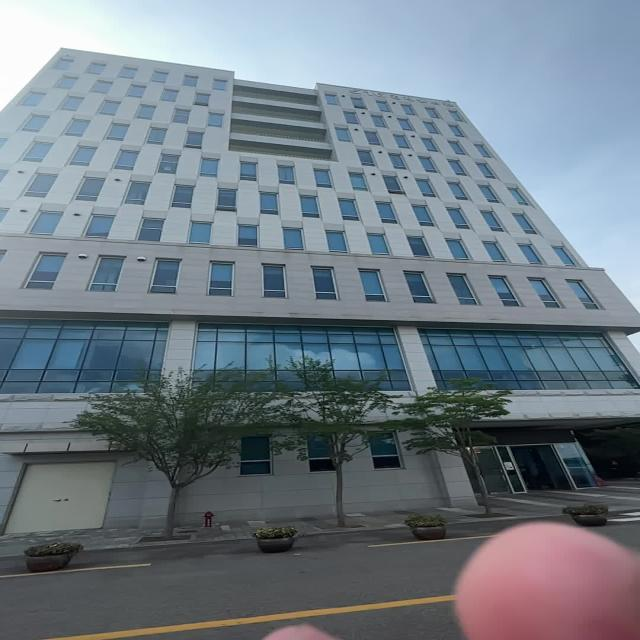building: (0, 41, 590, 394)
